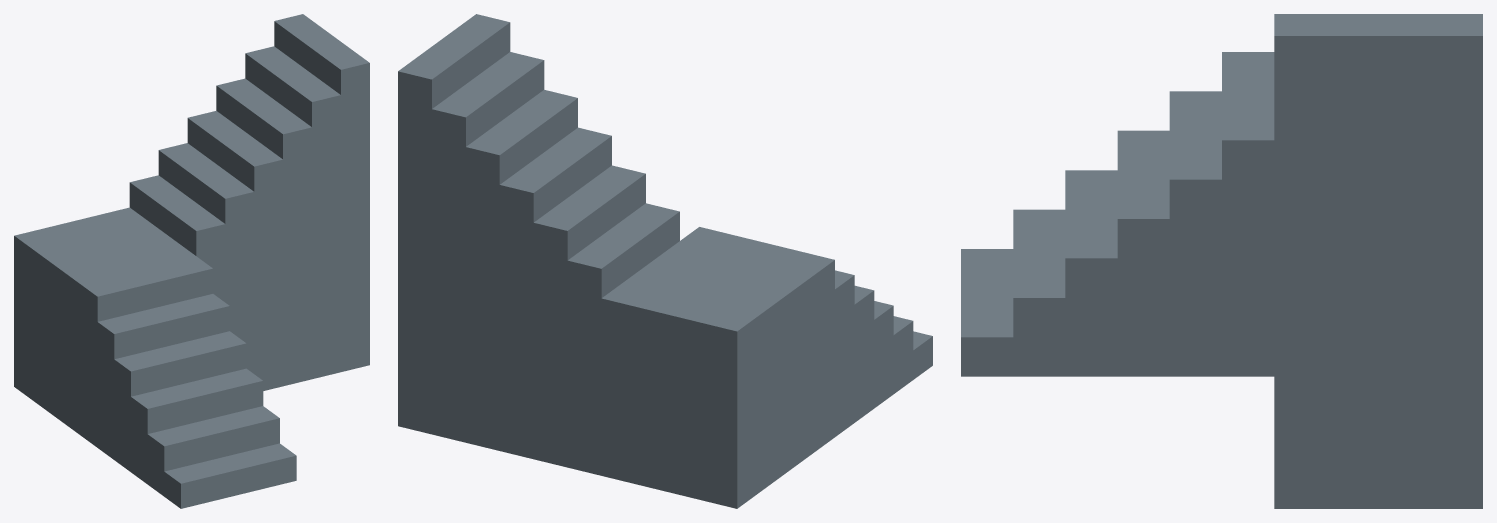
File: base-Stairs90.fbx
3 renders of one model, left to right at view 1: azimuth 30°, elevation 25°; view 2: azimuth 150°, elevation 25°; view 3: azimuth 270°, elevation 25°, orthographic. The views are drawn at different scales.
Parts seen in each view (by area): view 1: base-Stairs90_Landing.001, base-Stairs90_Upper.011, base-Stairs90_Upper.010, base-Stairs90_Upper.009, base-Stairs90_Upper.008, base-Stairs90_Upper.007, base-Stairs90_Lower.011, base-Stairs90_Lower.010, base-Stairs90_Lower.009, base-Stairs90_Lower.008, base-Stairs90_Lower.007, base-Stairs90_Lower.006 (+1 smaller); view 2: base-Stairs90_Landing.001, base-Stairs90_Upper.011, base-Stairs90_Upper.010, base-Stairs90_Upper.009, base-Stairs90_Upper.008, base-Stairs90_Upper.007, base-Stairs90_Upper.006, base-Stairs90_Lower.011, base-Stairs90_Lower.010, base-Stairs90_Lower.009, base-Stairs90_Lower.008, base-Stairs90_Lower.007 (+1 smaller); view 3: base-Stairs90_Upper.011, base-Stairs90_Lower.011, base-Stairs90_Lower.010, base-Stairs90_Lower.009, base-Stairs90_Lower.008, base-Stairs90_Lower.007, base-Stairs90_Lower.006.
Part boxes in pixels (x1,y1,x2,y2): base-Stairs90_Landing.001: (14,207,195,435); base-Stairs90_Upper.011: (274,14,369,371); base-Stairs90_Upper.010: (245,46,340,379); base-Stairs90_Upper.009: (216,78,311,386); base-Stairs90_Upper.008: (187,110,282,390); base-Stairs90_Upper.007: (158,143,254,373); base-Stairs90_Lower.011: (81,256,212,447); base-Stairs90_Lower.010: (97,294,229,459); base-Stairs90_Lower.009: (114,331,246,471); base-Stairs90_Lower.008: (131,368,263,484); base-Stairs90_Lower.007: (147,406,279,496); base-Stairs90_Lower.006: (164,443,296,508); base-Stairs90_Landing.001: (601,241,815,508); base-Stairs90_Upper.011: (398,14,510,434); base-Stairs90_Upper.010: (432,52,544,442); base-Stairs90_Upper.009: (466,89,577,450); base-Stairs90_Upper.008: (499,127,611,459); base-Stairs90_Upper.007: (533,165,645,467); base-Stairs90_Upper.006: (567,203,679,475); base-Stairs90_Lower.011: (680,227,834,451); base-Stairs90_Lower.010: (835,270,854,436); base-Stairs90_Lower.009: (854,285,874,422); base-Stairs90_Lower.008: (874,301,893,408); base-Stairs90_Lower.007: (893,316,913,393); base-Stairs90_Upper.011: (1274,14,1482,508); base-Stairs90_Lower.011: (1222,52,1274,376); base-Stairs90_Lower.010: (1169,91,1221,376); base-Stairs90_Lower.009: (1117,130,1169,376); base-Stairs90_Lower.008: (1065,170,1117,376); base-Stairs90_Lower.007: (1013,209,1065,376); base-Stairs90_Lower.006: (961,249,1013,376).
Bounding box in the file's own units: 300 × 300 × 300.
